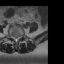CCS_normal: (15, 35, 17, 43)
LFS_normal: (18, 34, 20, 40)
LLS_normal: (17, 35, 18, 42)
RFS_normal: (11, 34, 13, 40)
RLS_normal: (13, 35, 15, 42)
